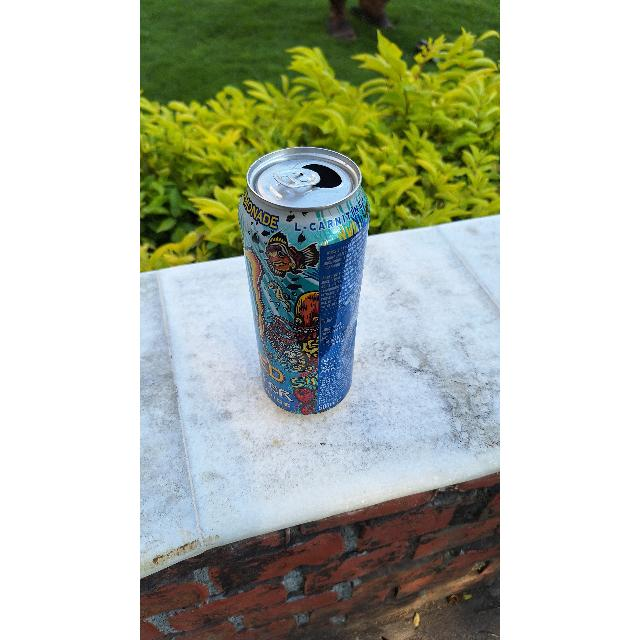Monster Aussie Lemonade: (239, 146, 367, 414)
